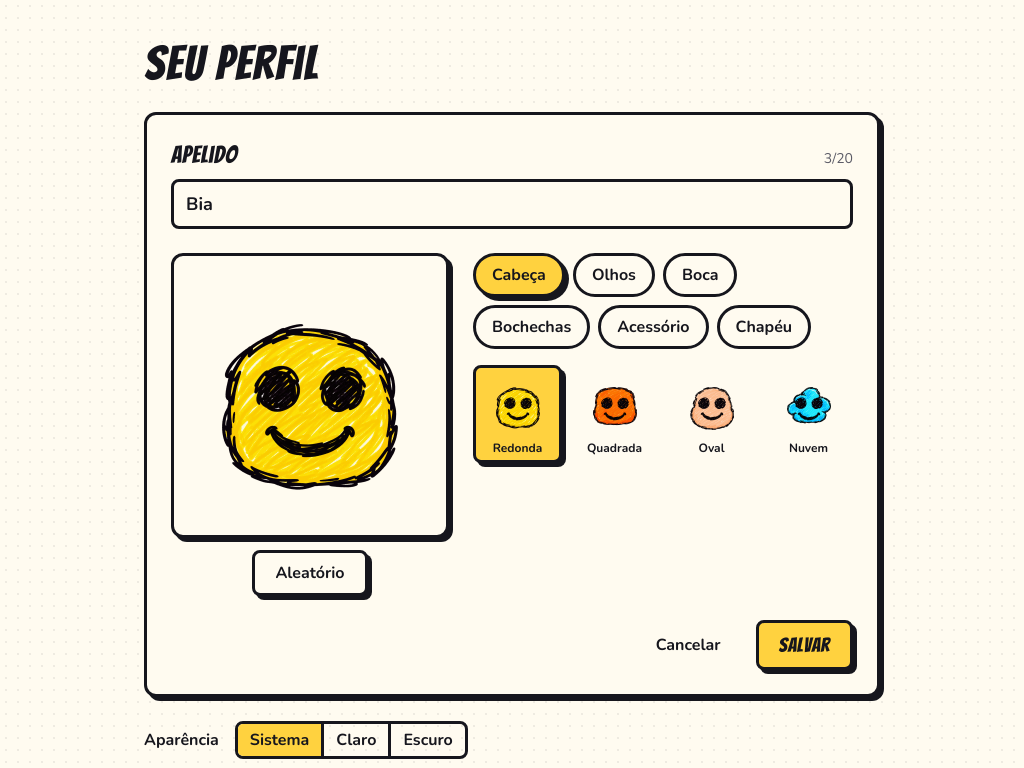
tela de perfil › abre com o perfil salvo e Cancelar volta sem salvar
Replace the text in the field labelled "Apelido" with "Outra": (512, 204) [171,179,853,229]
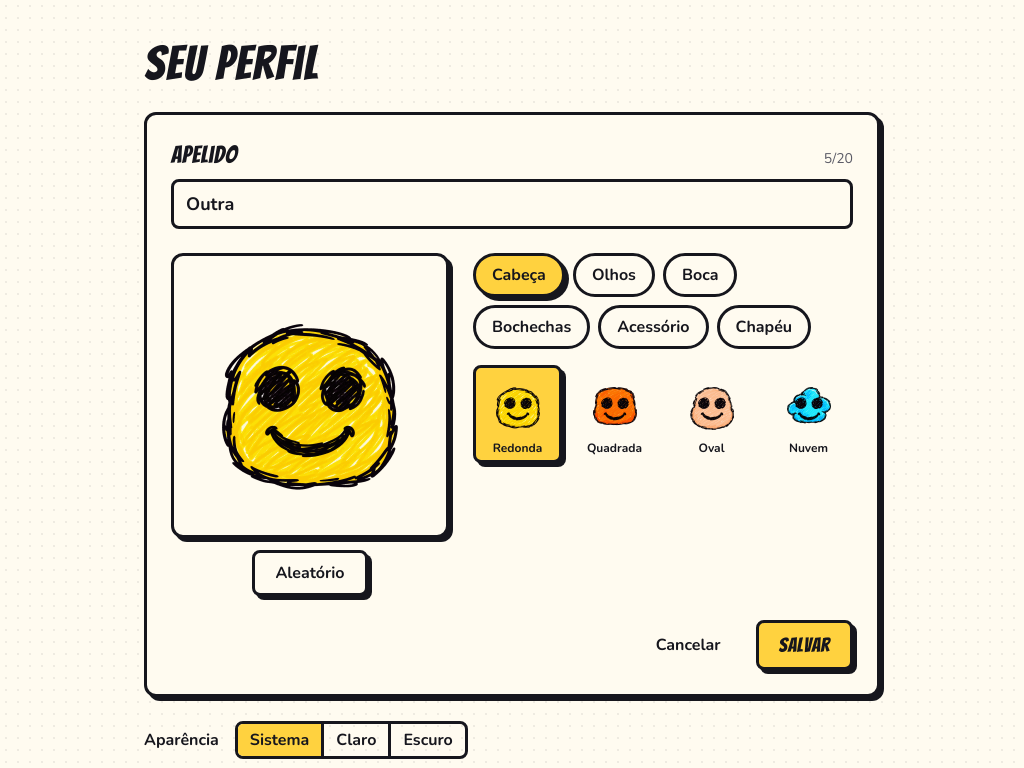
Click the link "Cancelar": click(688, 645) [656,634,721,656]
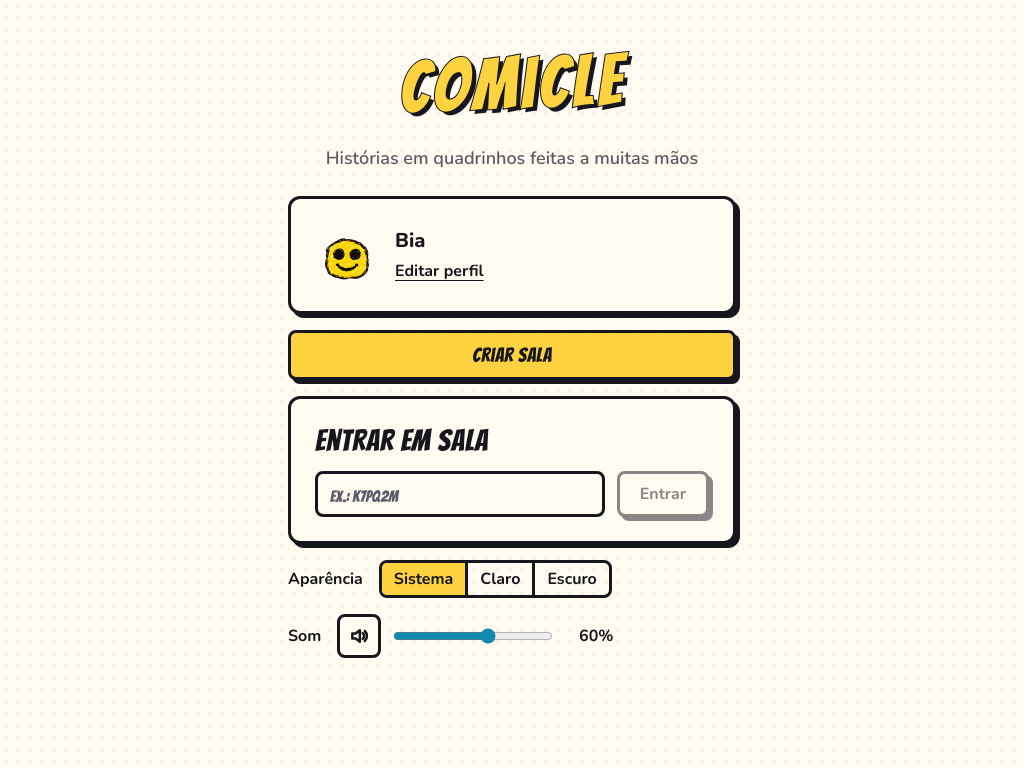
Check: the text "Bia" is shown, box [395,227,425,255]
